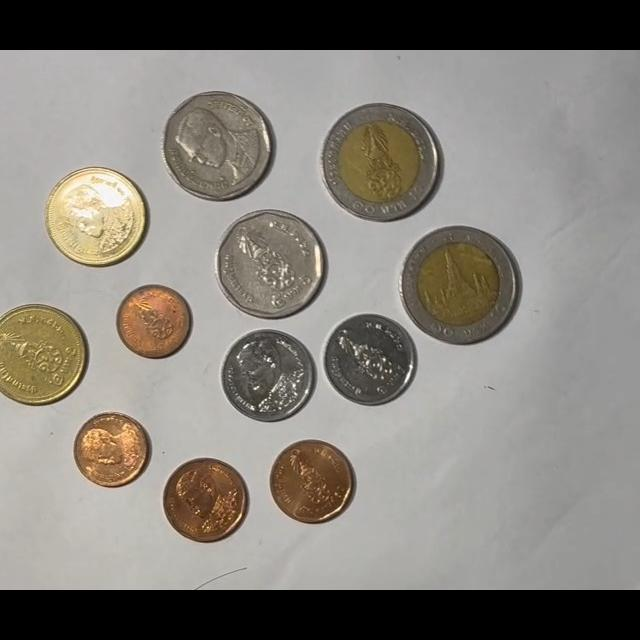1-baht: (322, 313, 417, 407), (220, 329, 315, 422)
10-baht: (321, 103, 440, 222), (400, 226, 520, 344)
2-baht: (45, 167, 146, 267), (0, 303, 87, 406)
25-satang: (74, 412, 151, 488), (116, 284, 191, 358)
5-baht: (162, 91, 275, 202), (215, 209, 326, 319)
50-satang: (162, 458, 248, 544), (269, 440, 354, 525)
